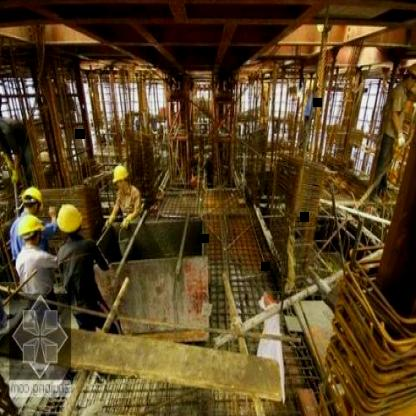helmet: (54, 198, 86, 236), (16, 208, 43, 242), (113, 162, 130, 189)
